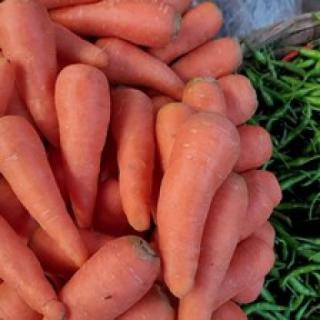Wortel: (156, 110, 241, 300), (1, 114, 95, 272), (53, 64, 111, 228), (60, 233, 164, 320), (110, 85, 158, 234), (47, 1, 185, 52)
